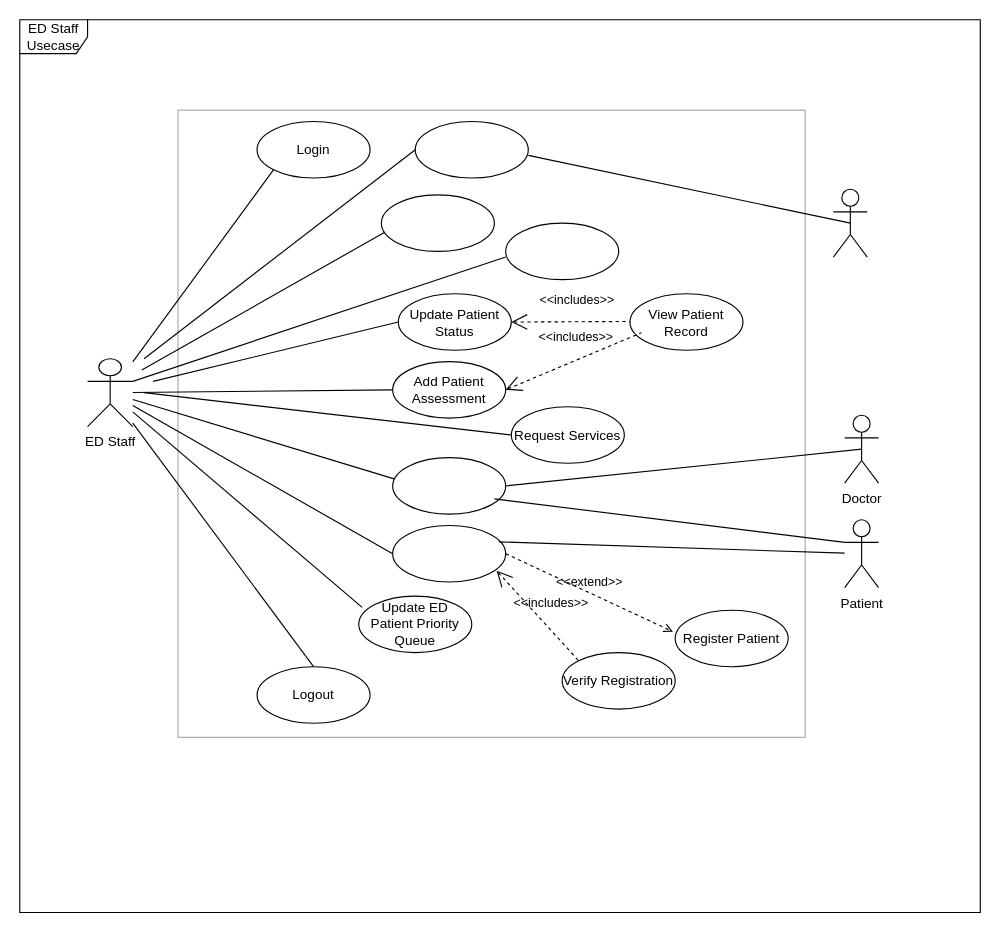
The diagram is 1000 pixels wide and 932 high, and some of its shapes have lost their labels. The centre of each missing label's shape, as x and y in pixels:
"Check-in Patient" goes at pixel 449 553.
"Notify Patient to visit ED" goes at pixel 471 149.
"Nurse" goes at pixel 849 222.
"Schedule follow-up" goes at pixel 449 485.
"Update ED Wait times" goes at pixel 562 251.
"View current ED Load" goes at pixel 437 222.
